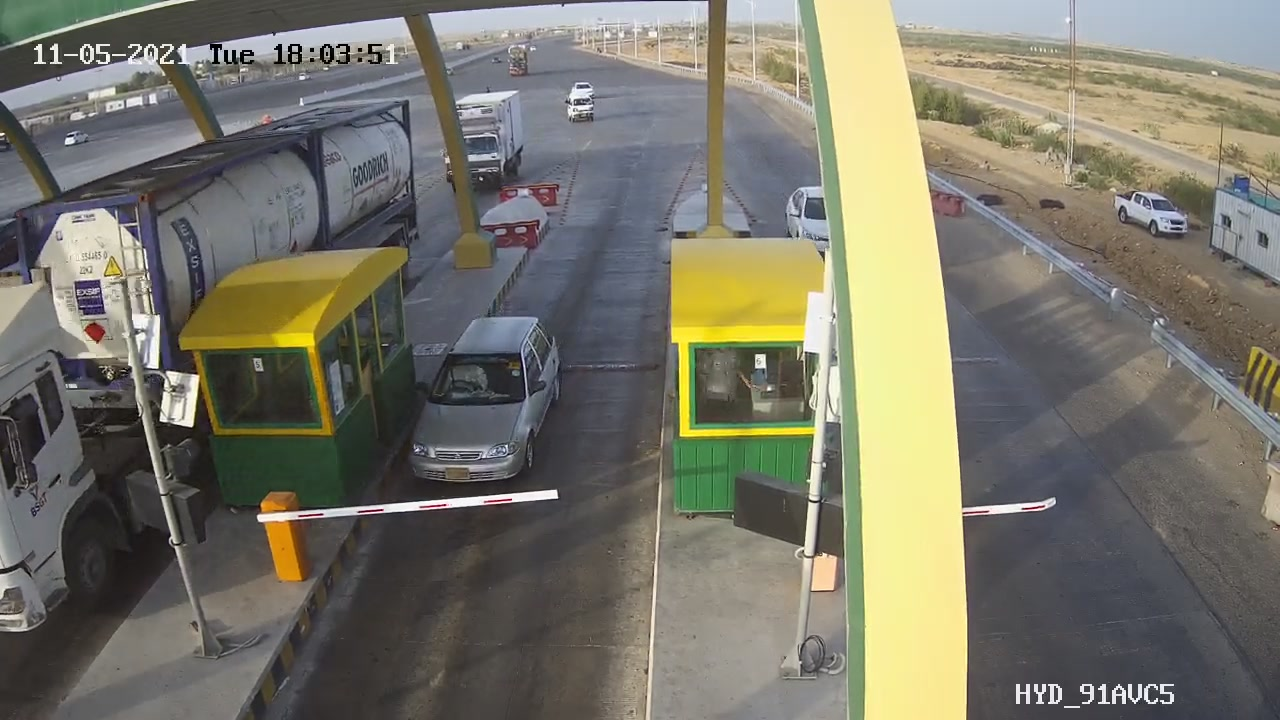F1: (392, 300, 576, 501)
